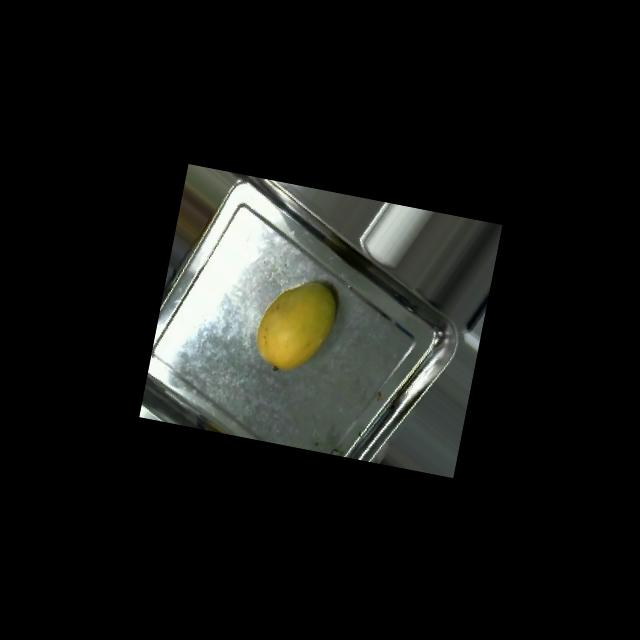Mango: (250, 271, 342, 381)
